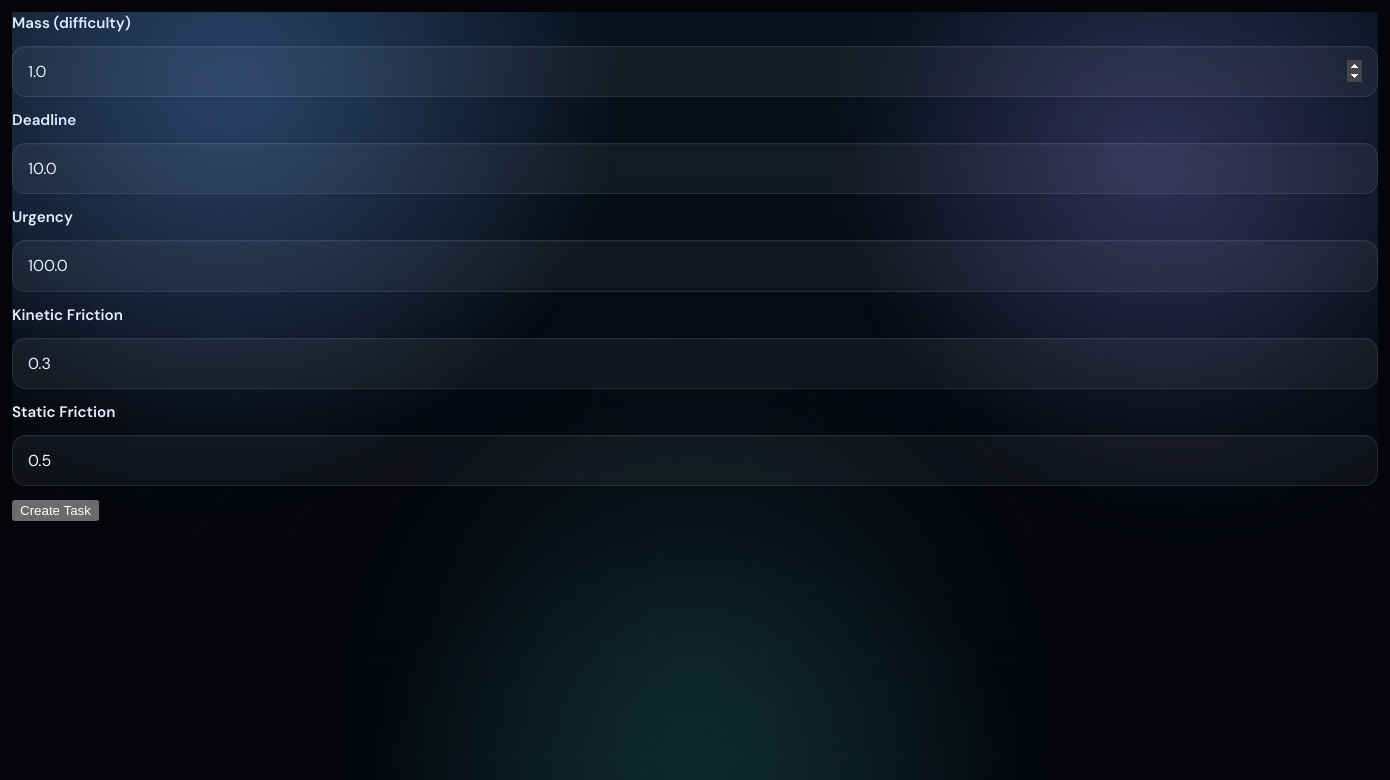
Test: TaskCreationForm – mass validation › shows error when mass is negative
Replace the text in the number field with test id "input-mass" with "-1" at coordinates (695, 72), box [12, 46, 1378, 97]
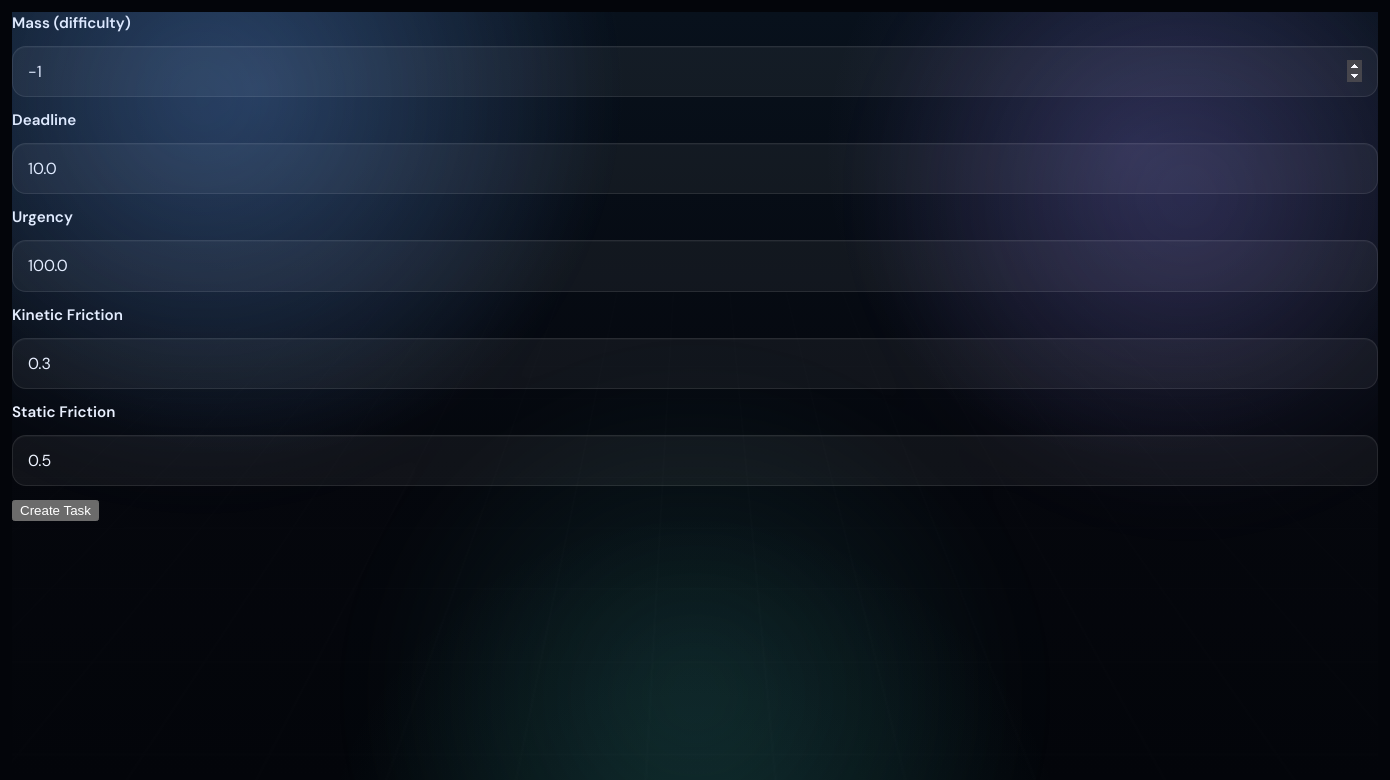
Click the button with test id "submit-button".
click(55, 511)  # box [12, 500, 99, 521]
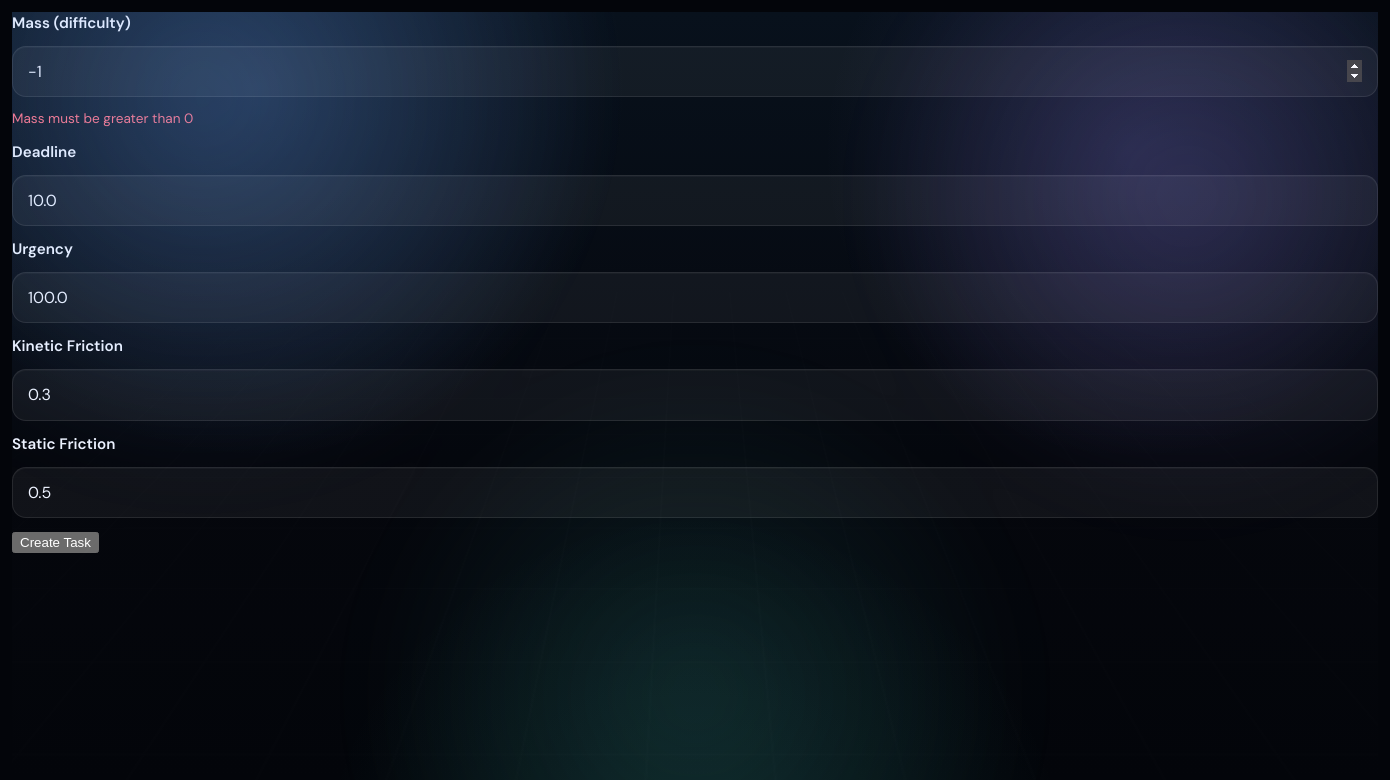
Result: the message "Mass must be greater than 0" is shown at [12, 110, 193, 127]
